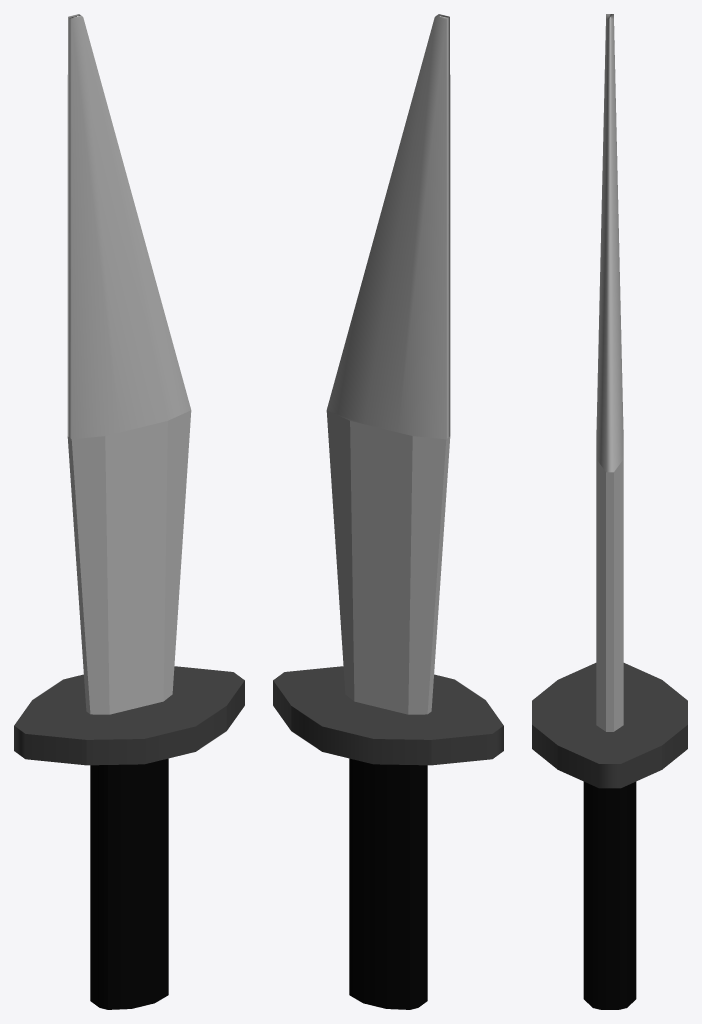
Rendered from knife.fbx.
3 renders of one model, left to right at view 1: azimuth 30°, elevation 25°; view 2: azimuth 150°, elevation 25°; view 3: azimuth 270°, elevation 25°, orthographic. The views are drawn at different scales.
Parts seen in each view (by area): view 1: pCube1; view 2: pCube1; view 3: pCube1.
Boxes of the visible parts, x1=… form: pCube1: x1=14, y1=14, x2=244, y2=1009; pCube1: x1=273, y1=14, x2=503, y2=1009; pCube1: x1=532, y1=14, x2=687, y2=1009.
Bounding box in the file's own units: 0.5366 × 2.32 × 0.3442.
